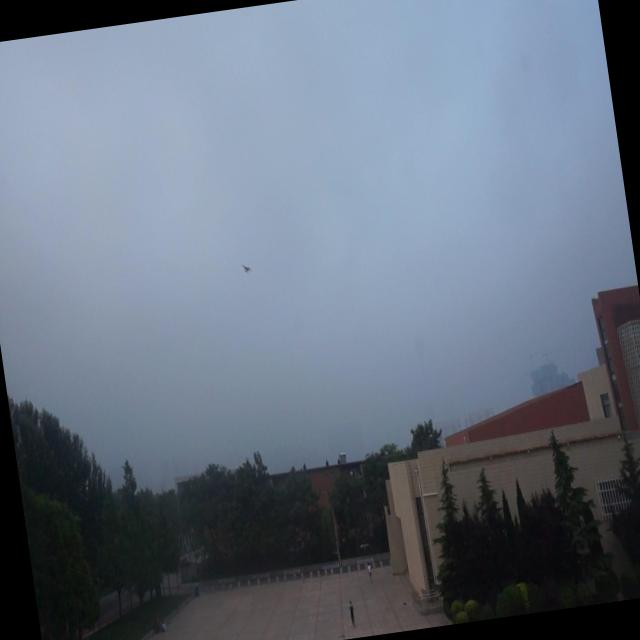drone: (240, 260, 252, 278)
